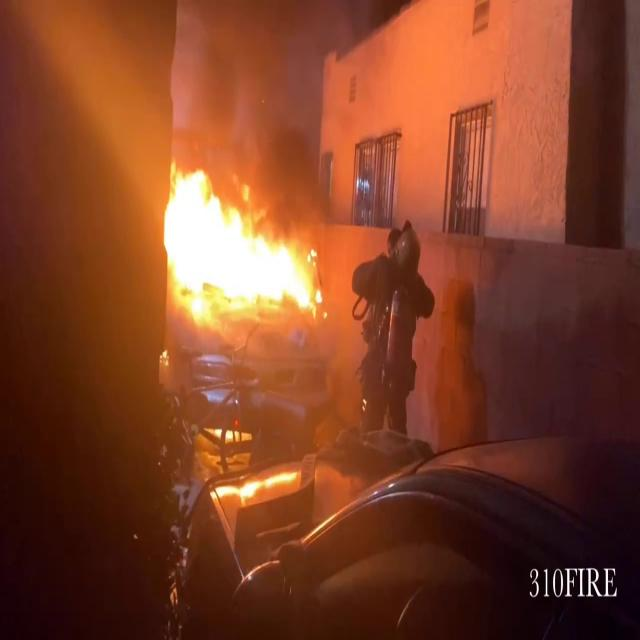Fire: (157, 158, 328, 323)
